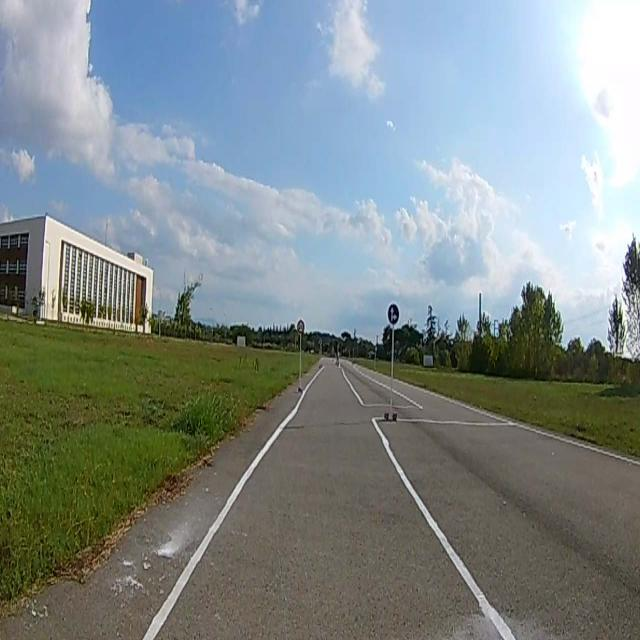ilerisag: (388, 304, 398, 324)
